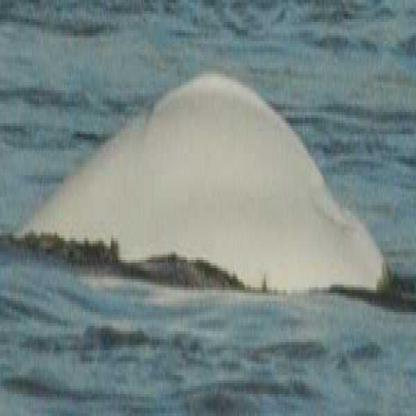dolphin-whale: (14, 49, 394, 311)
